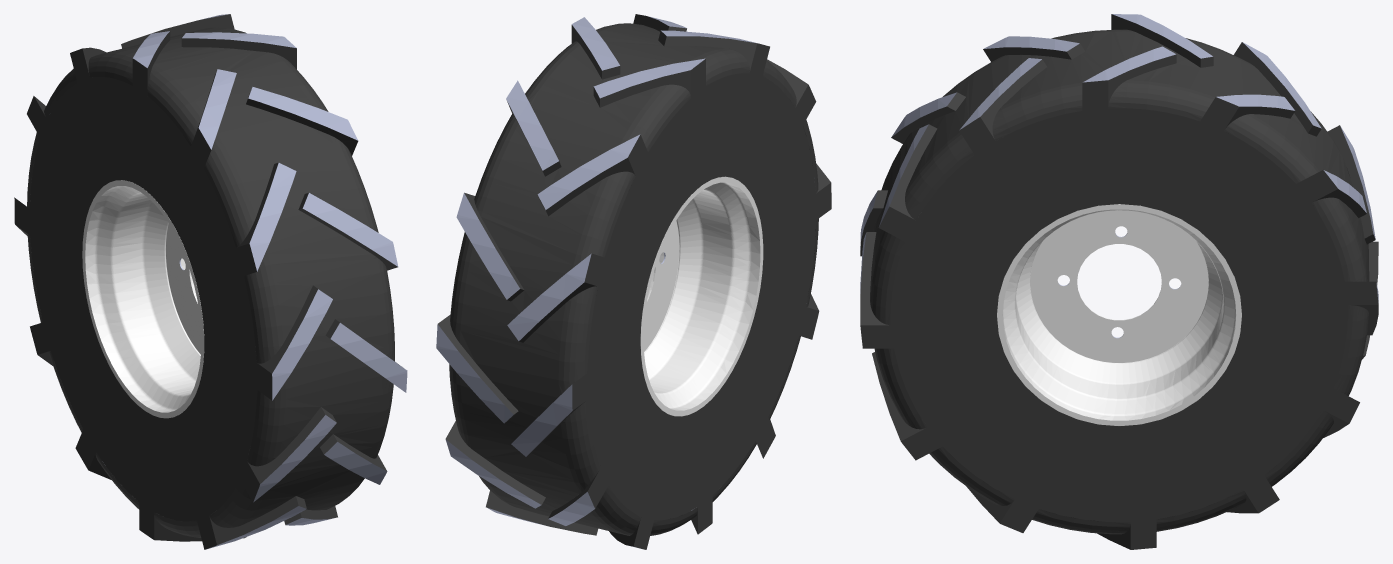
File: wheel.dae
3 renders of one model, left to right at view 1: azimuth 30°, elevation 25°; view 2: azimuth 150°, elevation 25°; view 3: azimuth 270°, elevation 25°, orthographic.
Visible parts, largest first — view 1: Shape_IndexedFaceSet.001, Shape_IndexedFaceSet; view 2: Shape_IndexedFaceSet.001, Shape_IndexedFaceSet; view 3: Shape_IndexedFaceSet.001, Shape_IndexedFaceSet.
Boxes of the visible parts, x1=… form: Shape_IndexedFaceSet.001: x1=14, y1=14, x2=407, y2=549; Shape_IndexedFaceSet: x1=82, y1=180, x2=204, y2=418; Shape_IndexedFaceSet.001: x1=436, y1=14, x2=831, y2=549; Shape_IndexedFaceSet: x1=640, y1=176, x2=763, y2=416; Shape_IndexedFaceSet.001: x1=860, y1=14, x2=1378, y2=549; Shape_IndexedFaceSet: x1=997, y1=204, x2=1241, y2=425.
Bounding box in the file's own units: 0.1007 × 0.3326 × 0.3326.
